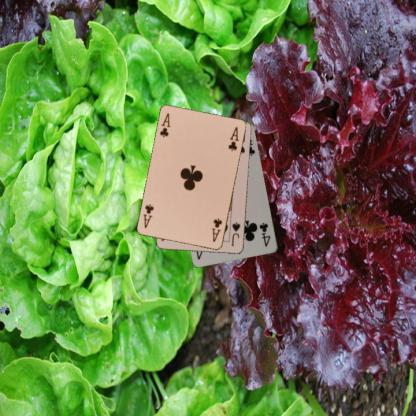4c: (257, 220, 272, 249)
Ac: (157, 111, 172, 139), (209, 216, 224, 243)
Js: (229, 220, 241, 247)
